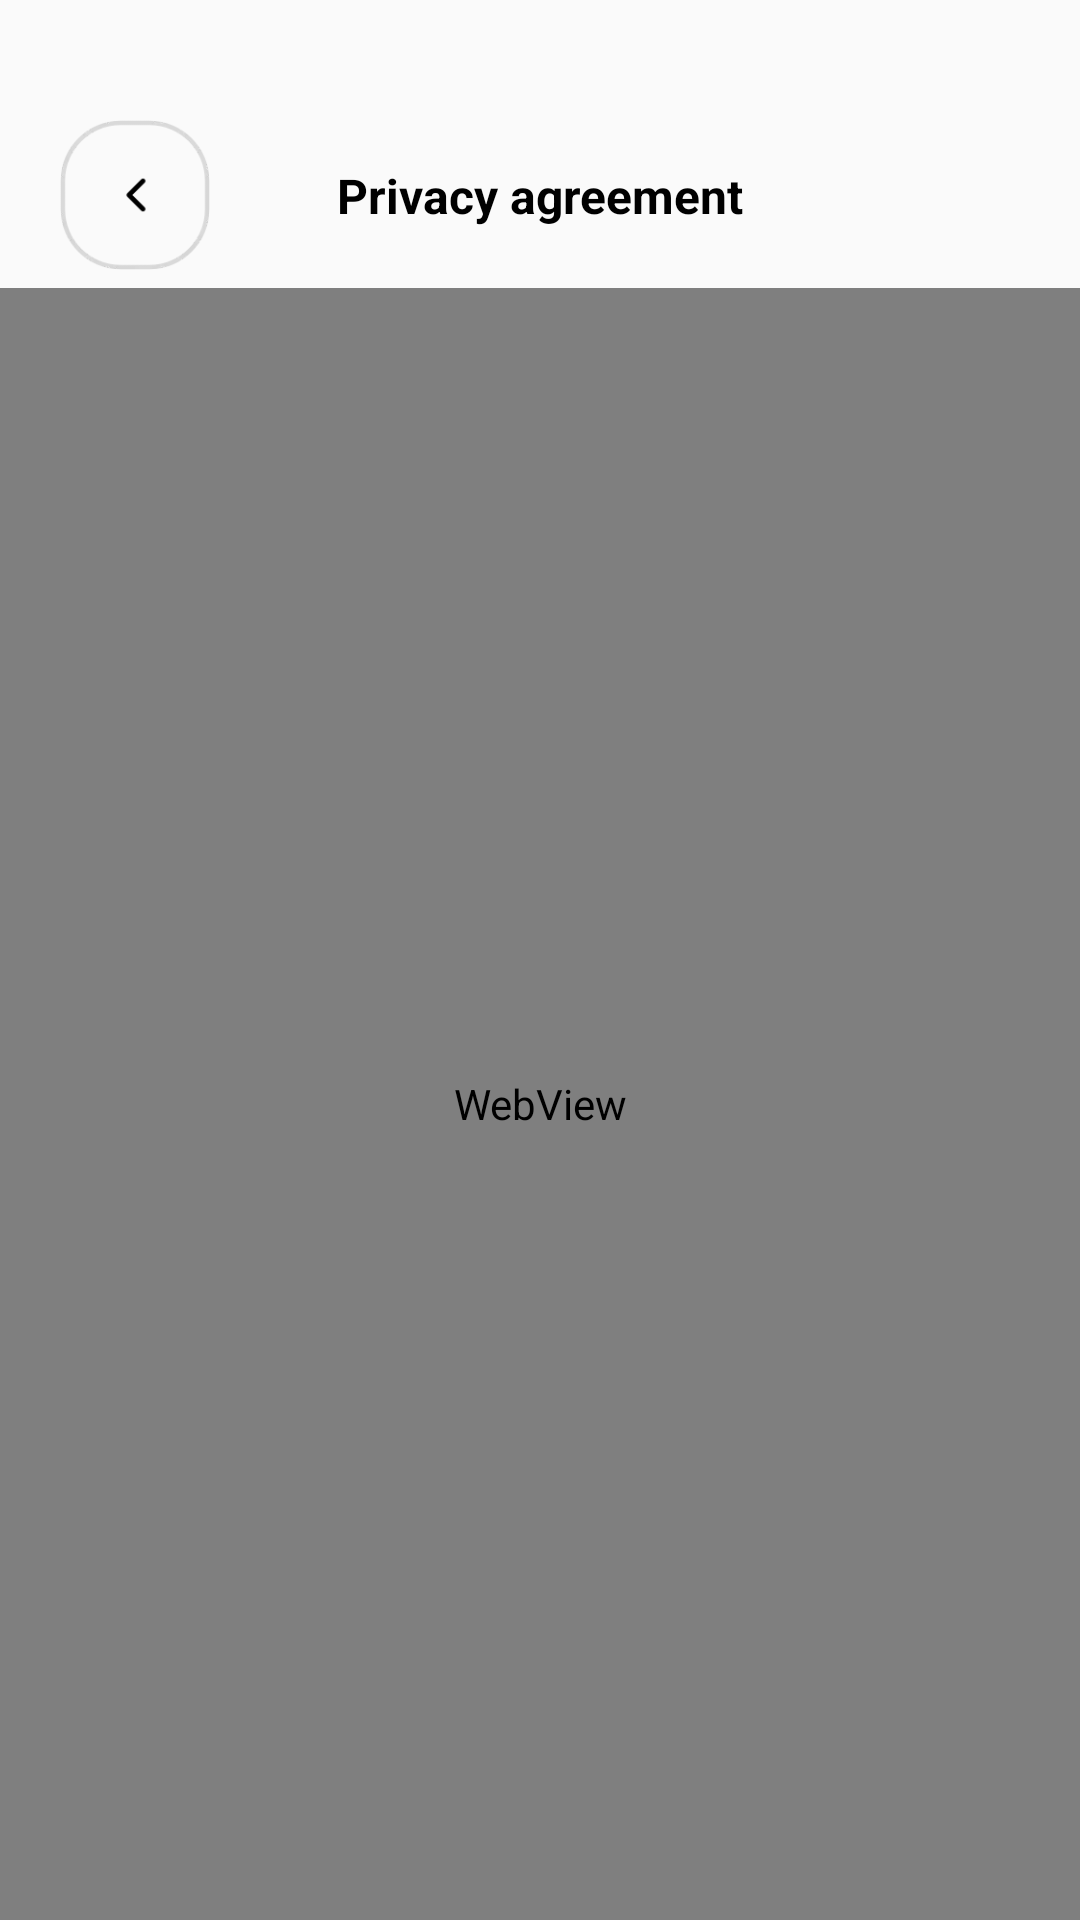

Icons on this 1080 × 1920 Android screen, each with the point to tap as (x,y):
back: (135,195)
